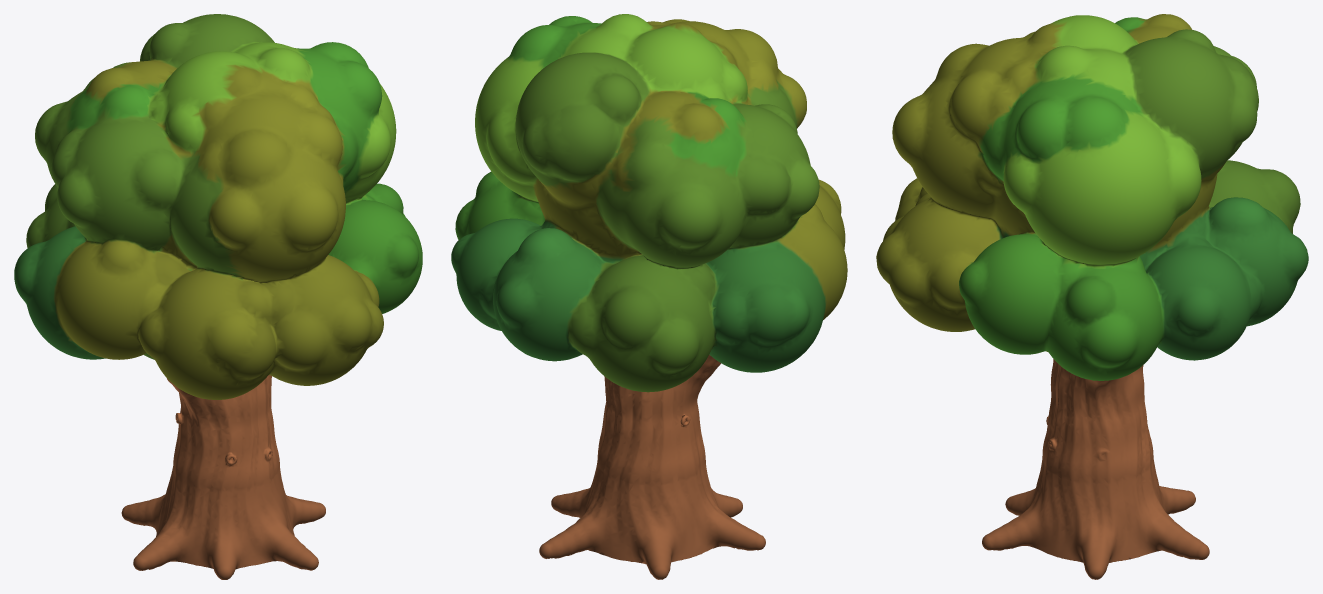
The model's file is arvore.glb.
3 views of the same model, side by side, from view 1: azimuth 30°, elevation 25°; view 2: azimuth 150°, elevation 25°; view 3: azimuth 270°, elevation 25° (orthographic). The views are drawn at different scales.
Parts seen in each view (by area): view 1: copa, tronco; view 2: copa, tronco; view 3: copa, tronco.
Part boxes in pixels (x1,y1,x2,y2): copa: (14,14,422,399); tronco: (121,375,325,579); copa: (451,14,847,392); tronco: (539,354,765,579); copa: (876,14,1308,380); tronco: (982,359,1209,579).
Bounding box in the file's own units: 3.78 × 4.87 × 3.77.
